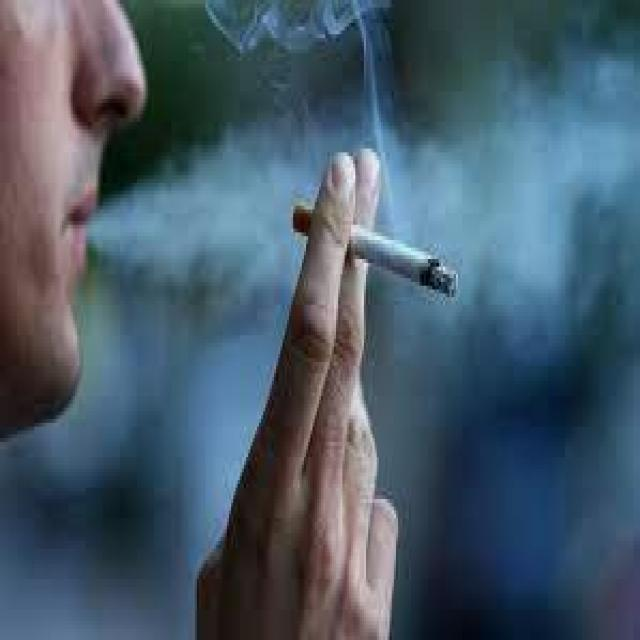cigarette: (291, 194, 460, 297)
